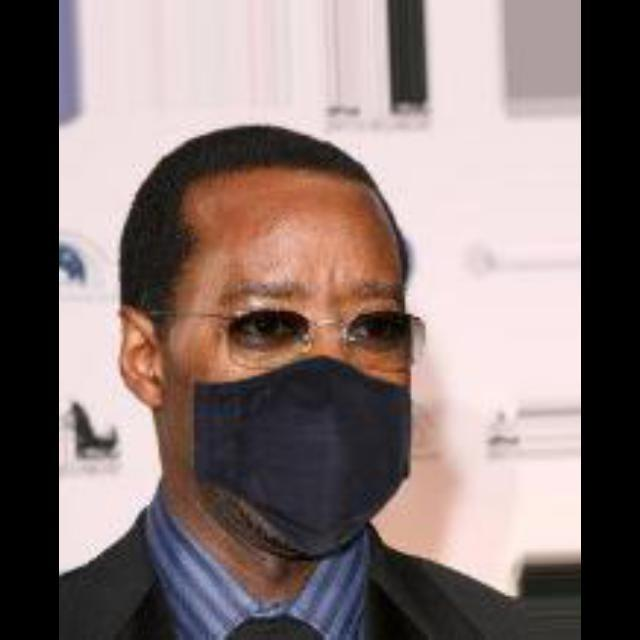suspicion: (122, 132, 454, 546)
